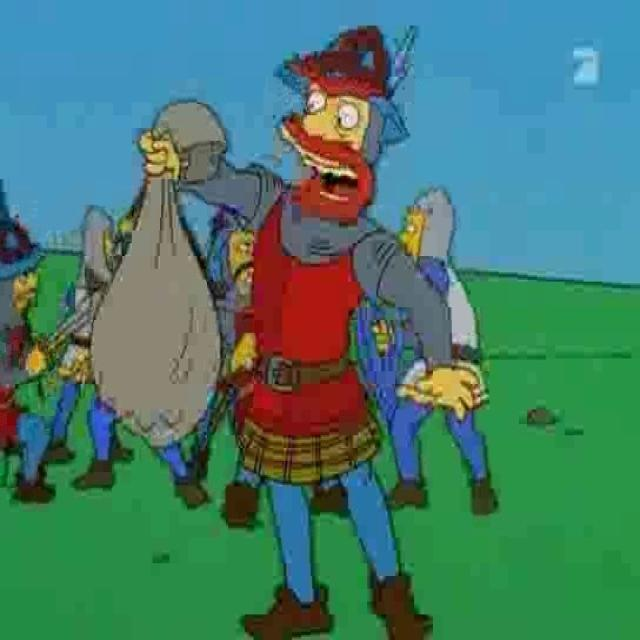Groundskeeper Willie: (274, 75, 378, 232)
